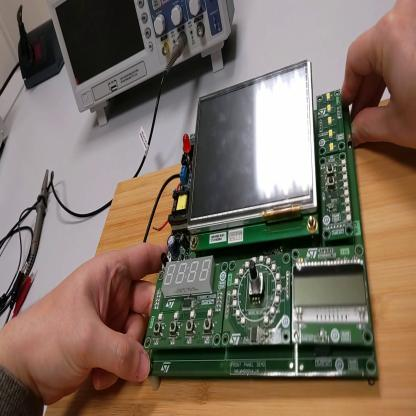hand: (25, 246, 167, 402), (340, 1, 416, 154)
low voltage board: (141, 60, 380, 387)
oscilloscope: (50, 3, 237, 129)
oscilloscope probe tip: (23, 167, 51, 275)
socket: (16, 21, 66, 92)
working area: (47, 101, 416, 416)
